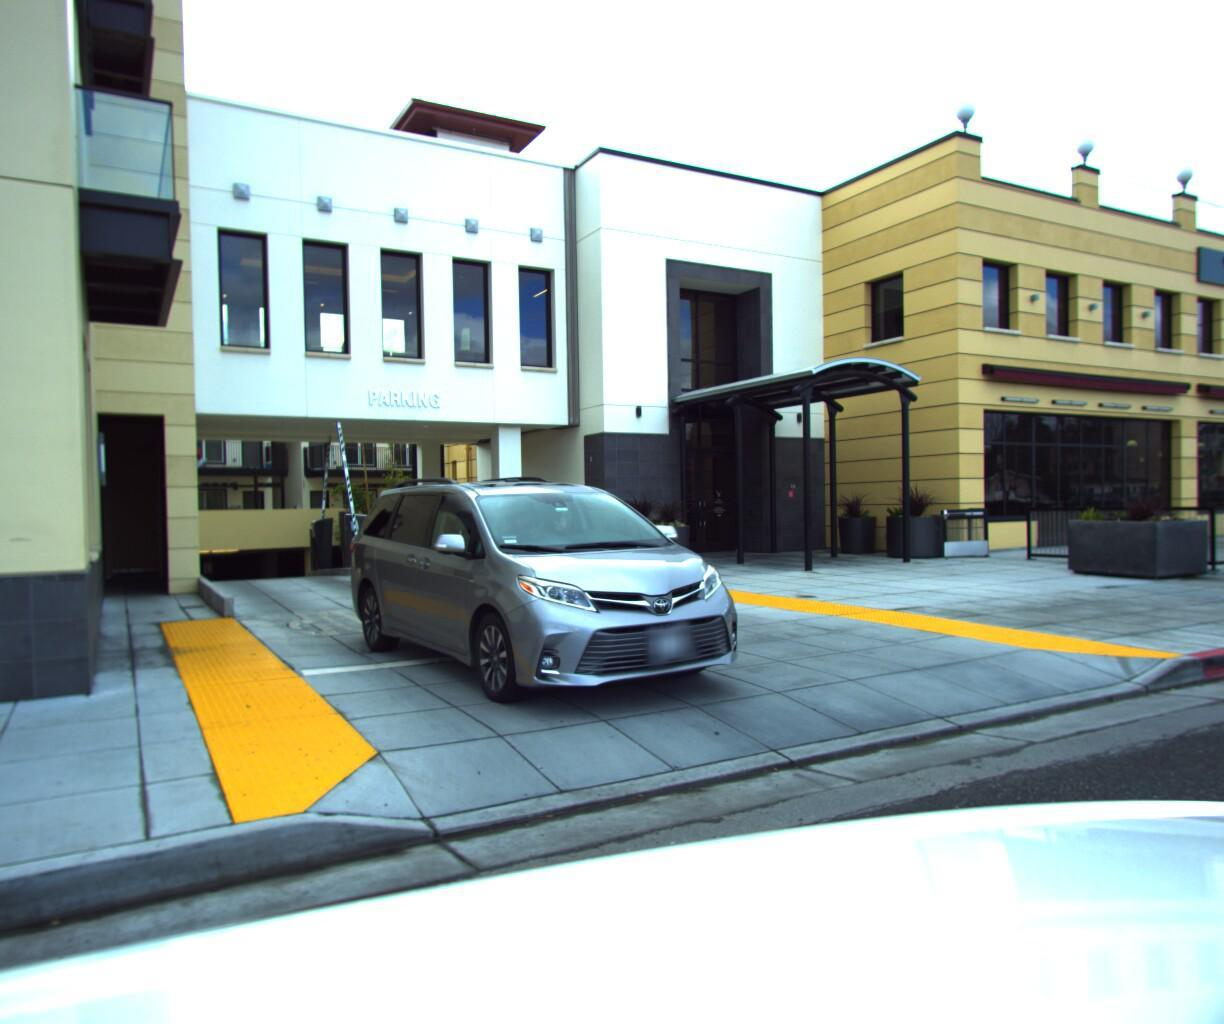car: (339, 459, 788, 743)
